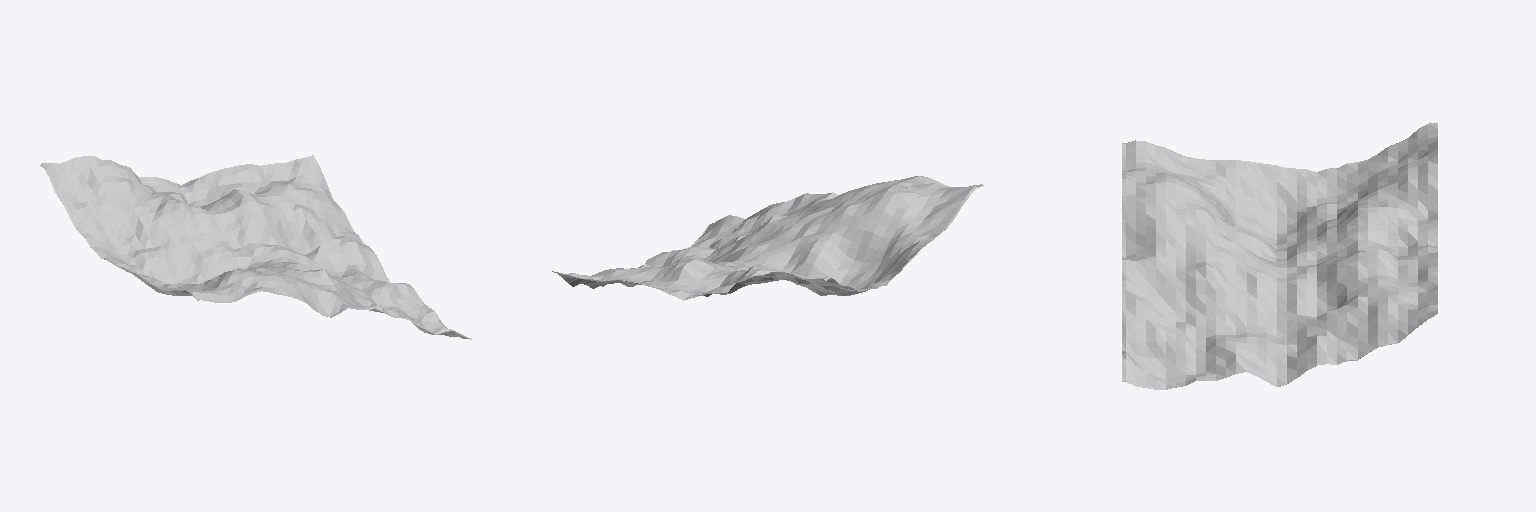
File: heightmap.029.obj
3 renders of one model, left to right at view 1: azimuth 30°, elevation 25°; view 2: azimuth 150°, elevation 25°; view 3: azimuth 270°, elevation 25°, orthographic.
Visible parts, largest first — view 1: heightmap.029_Plane.029; view 2: heightmap.029_Plane.029; view 3: heightmap.029_Plane.029.
Part boxes in pixels (left/top/right/bottom): heightmap.029_Plane.029: left=40, top=155, right=471, bottom=339; heightmap.029_Plane.029: left=552, top=176, right=983, bottom=300; heightmap.029_Plane.029: left=1122, top=123, right=1437, bottom=389.
Bounding box in the file's own units: 32 × 15.09 × 32.